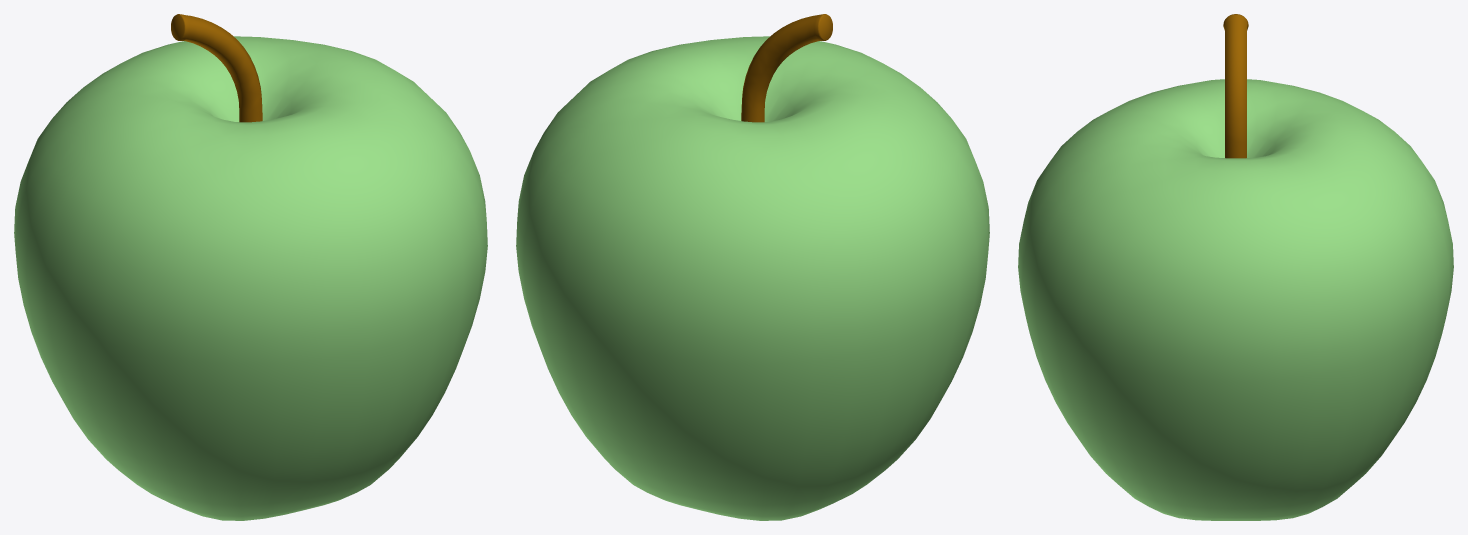
File: Manzana.fbx
3 views of the same model, side by side, from view 1: azimuth 30°, elevation 25°; view 2: azimuth 150°, elevation 25°; view 3: azimuth 270°, elevation 25° (orthographic). The views are drawn at different scales.
Parts seen in each view (by area): view 1: MANZANA; view 2: MANZANA; view 3: MANZANA.
Part boxes in pixels (bbox=[...]): MANZANA: bbox=[14, 14, 487, 520]; MANZANA: bbox=[516, 14, 989, 520]; MANZANA: bbox=[1018, 14, 1453, 520].
Size of the model in its own units: 5.87 by 6.6 by 5.87.
